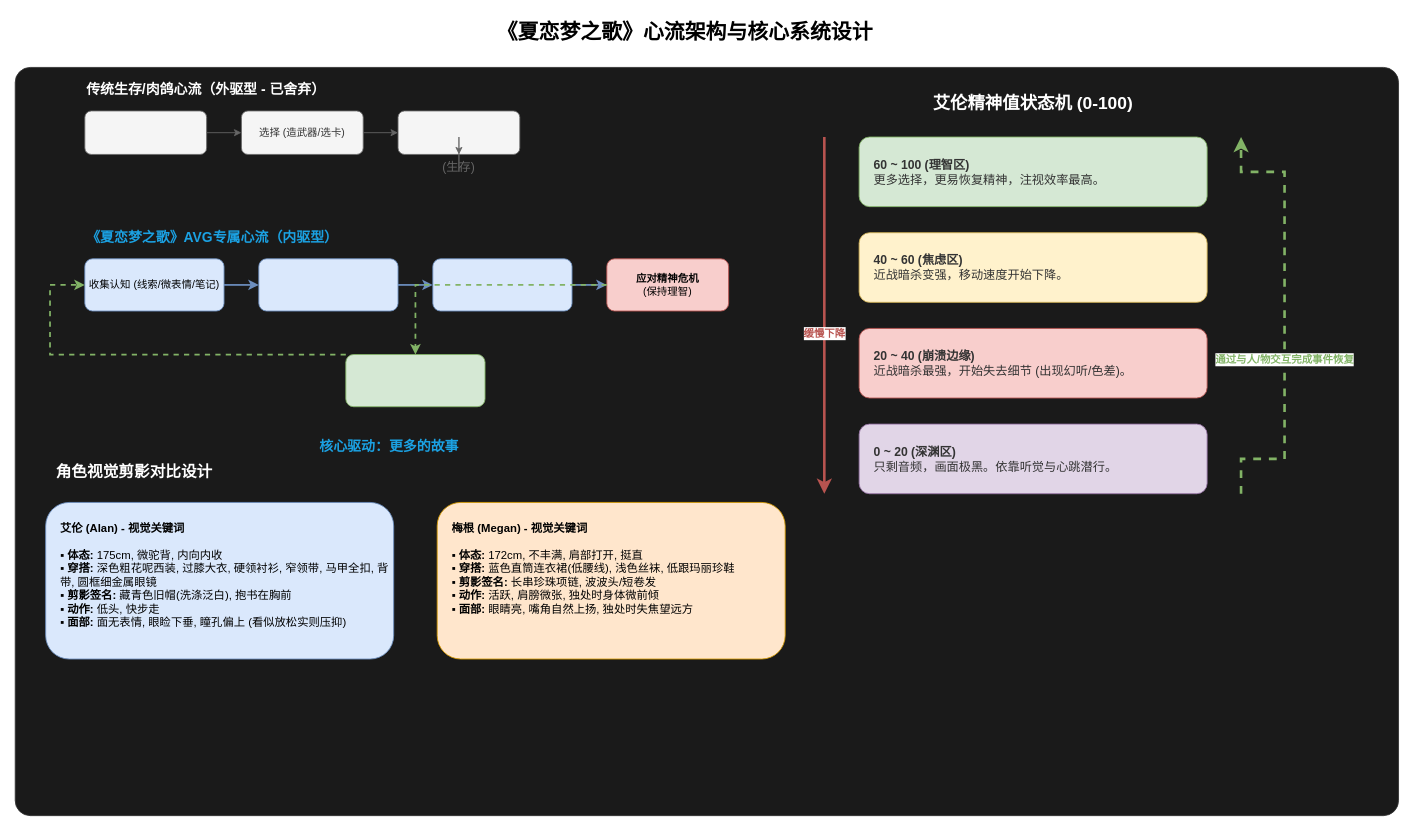
Some shapes in this 1414 by 831 pixel diagram are drawn without their labels. The box of each missing label's shape, as (x1, y1, x2, y2) in pixels:
安全屋/羁绊恢复: (345, 354, 485, 407)
收集材料 (木材/金钱): (84, 110, 207, 154)
更强的实力: (397, 110, 520, 154)
社交/命运选择 (注视谁/杀不杀): (258, 258, 398, 311)
解锁隐藏故事/洞察: (432, 258, 572, 311)
